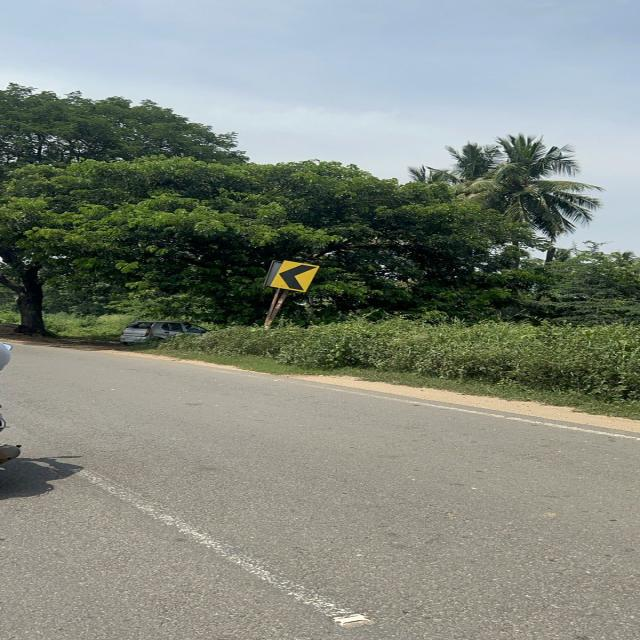chevron_left: (264, 262, 322, 292)
